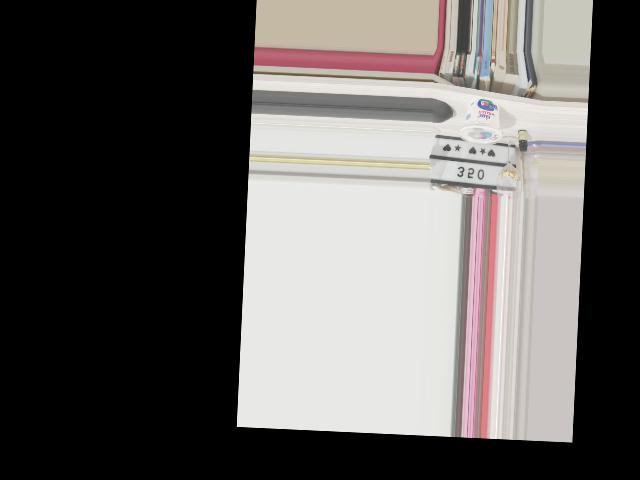cotage: (462, 95, 501, 146)
